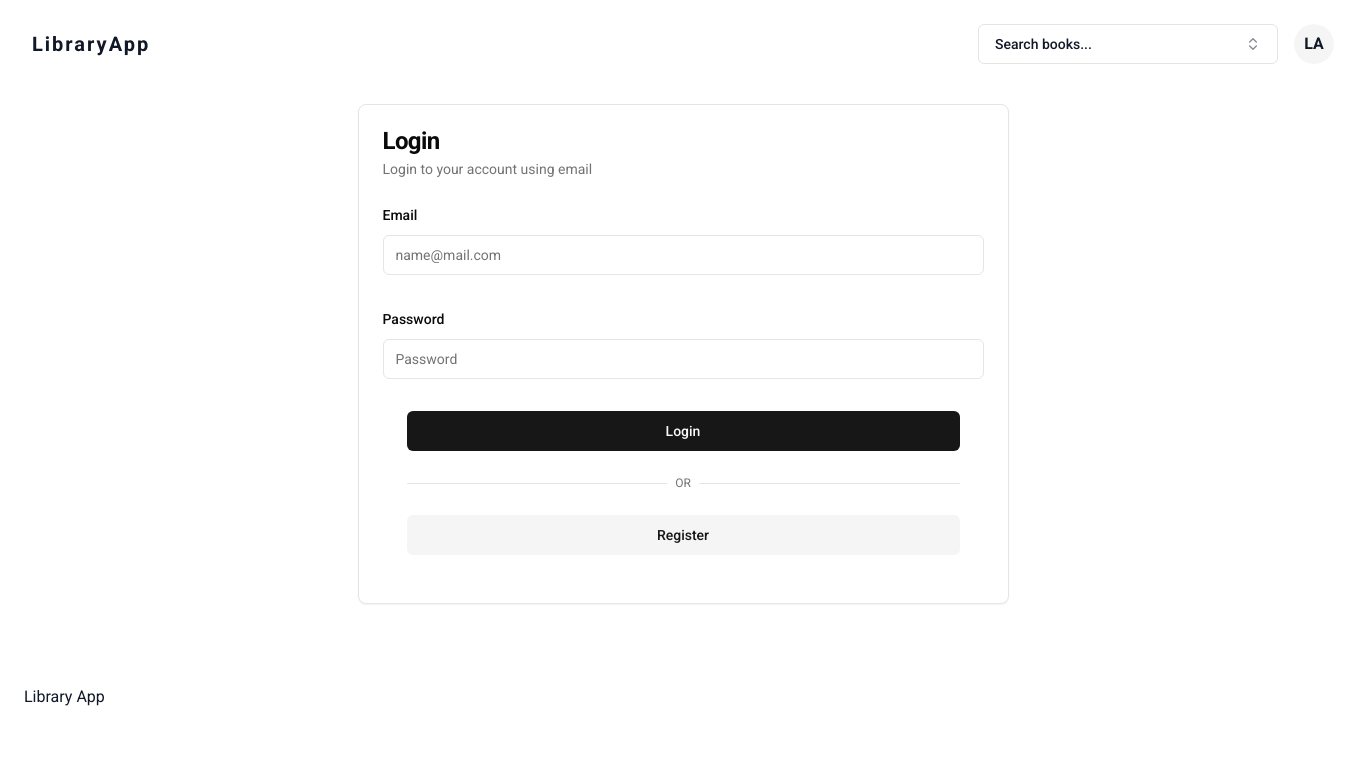
Test: Login Page › Action for Login › should show error message when some of input is missing a value
Click the button with test id "btn-submit".
click(683, 431)  # box [406, 411, 960, 451]
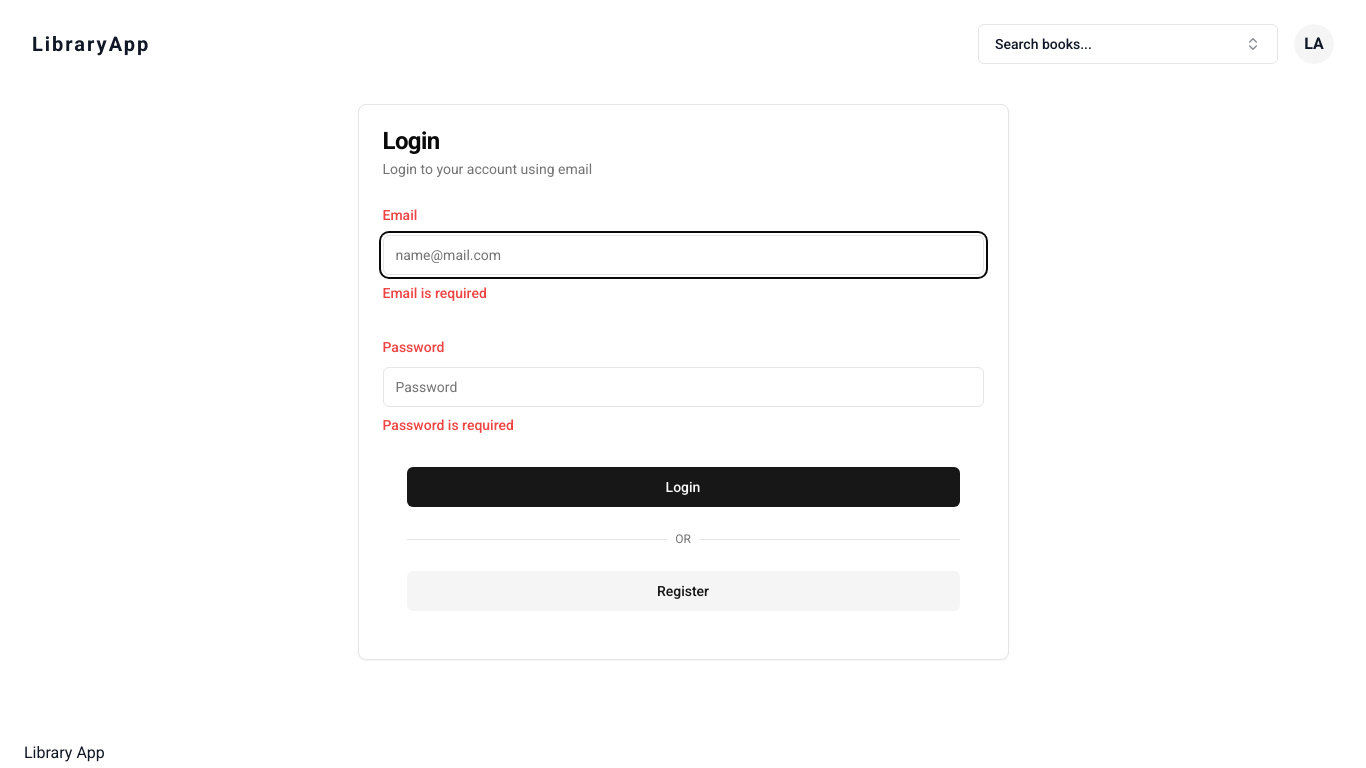
Now the text "Email is required" is shown, box [382, 285, 487, 301]
Now the text "Password is required" is shown, box [382, 417, 514, 433]
